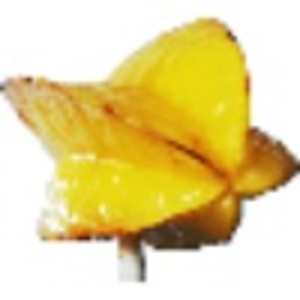carambola: (1, 14, 300, 282)
